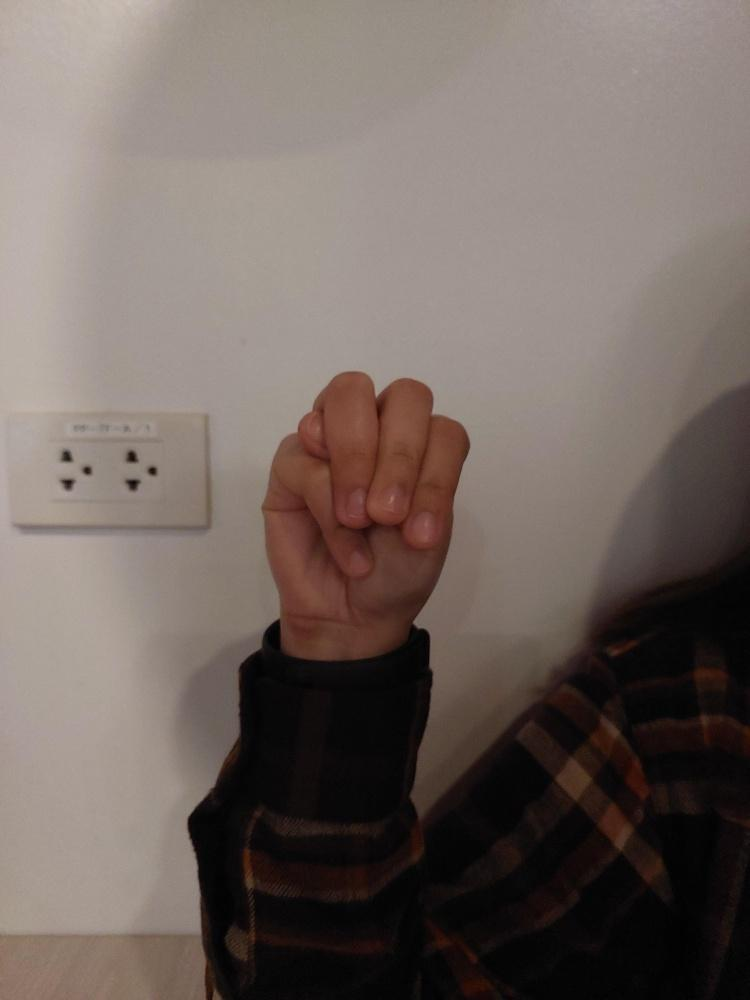m: (256, 365, 474, 634)
